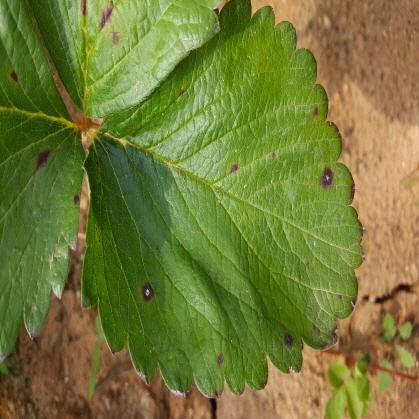Leaf Spot: (79, 0, 365, 399), (0, 0, 86, 363), (28, 0, 227, 120)
